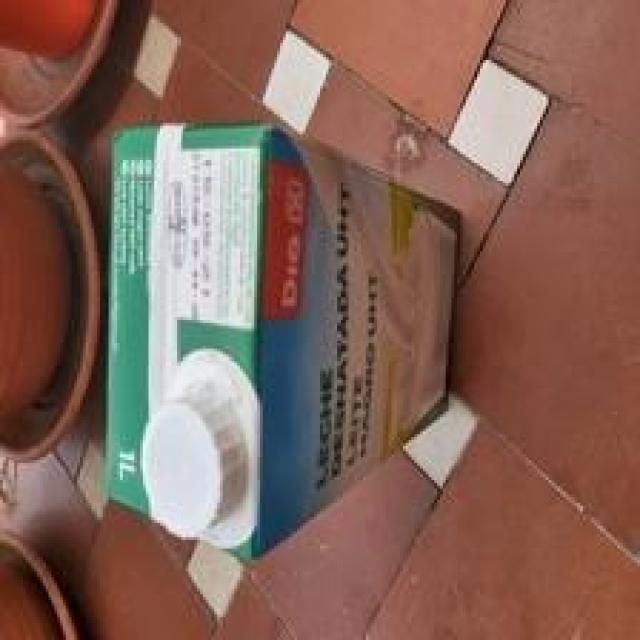PaperCardboard: (103, 125, 473, 546)
